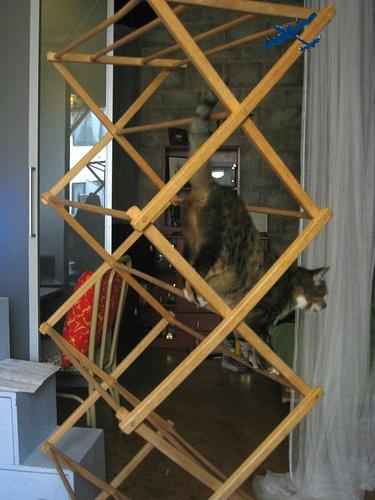tampered: (263, 13, 321, 51)
